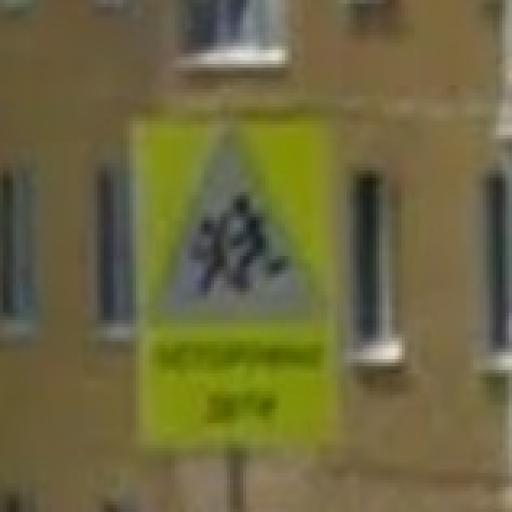traffic_sign: (147, 133, 331, 325)
